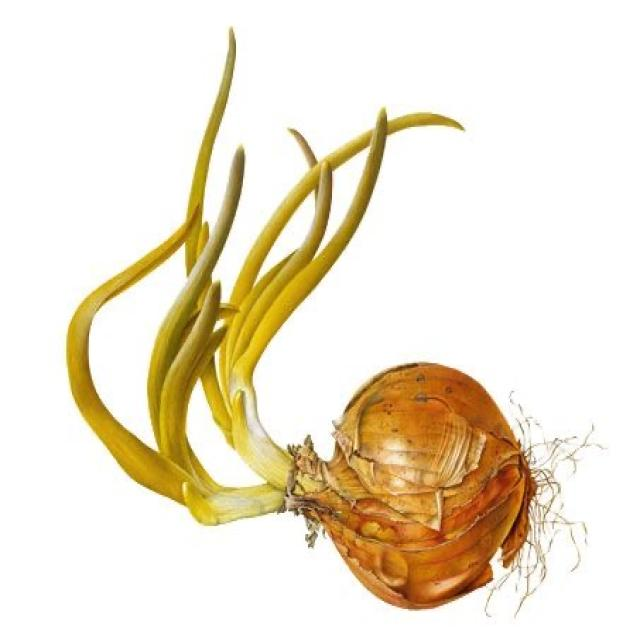sprouting: (33, 0, 587, 595)
